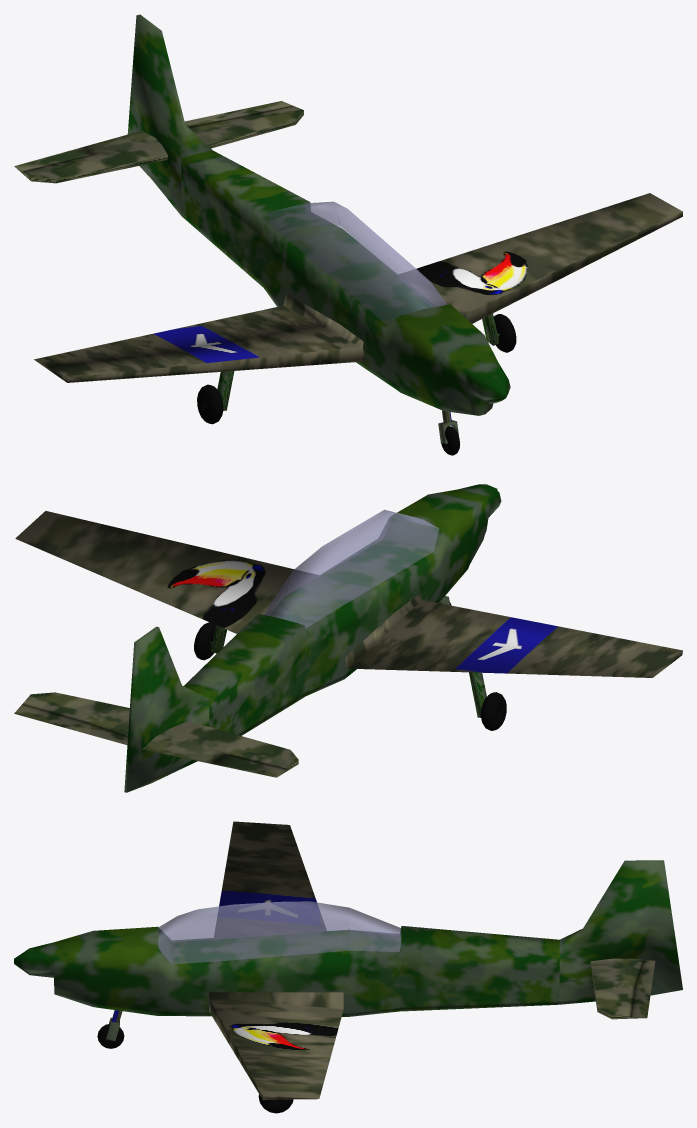
Rendered from airplane-camuflado.glb.
The picture shows the model from 3 angles, top to bottom: view 1: azimuth 30°, elevation 25°; view 2: azimuth 150°, elevation 25°; view 3: azimuth 270°, elevation 25°; orthographic projection. The views are drawn at different scales.
Visible parts, largest first — view 1: fuselage, wing-right, wing-left, cockpit, Cube, wheel-right; view 2: fuselage, wing-right, wing-left, cockpit, Cube, wheel-right, wheel-left, leg-right; view 3: fuselage, cockpit, wing-left, wing-right, Cube.
Boxes of the visible parts, box(x1,y1,x2,y2) form: fuselage: box(127, 14, 510, 415); wing-right: box(34, 293, 366, 382); wing-left: box(399, 193, 682, 323); cockpit: box(268, 201, 446, 326); Cube: box(14, 101, 303, 183); wheel-right: box(197, 384, 223, 424); fuselage: box(124, 484, 501, 792); wing-right: box(345, 595, 682, 677); wing-left: box(15, 511, 318, 633); cockpit: box(263, 509, 438, 628); Cube: box(14, 692, 298, 777); wheel-right: box(481, 692, 506, 730); wheel-left: box(194, 622, 215, 660); leg-right: box(469, 672, 486, 717); fuselage: box(14, 860, 682, 1016); cockpit: box(158, 901, 401, 964); wing-left: box(209, 992, 343, 1099); wing-right: box(214, 821, 326, 937); Cube: box(590, 904, 655, 1019).
Size of the model in its own units: 11.19 by 3.58 by 11.53.
Materials: 7 (4 with a texture image).
